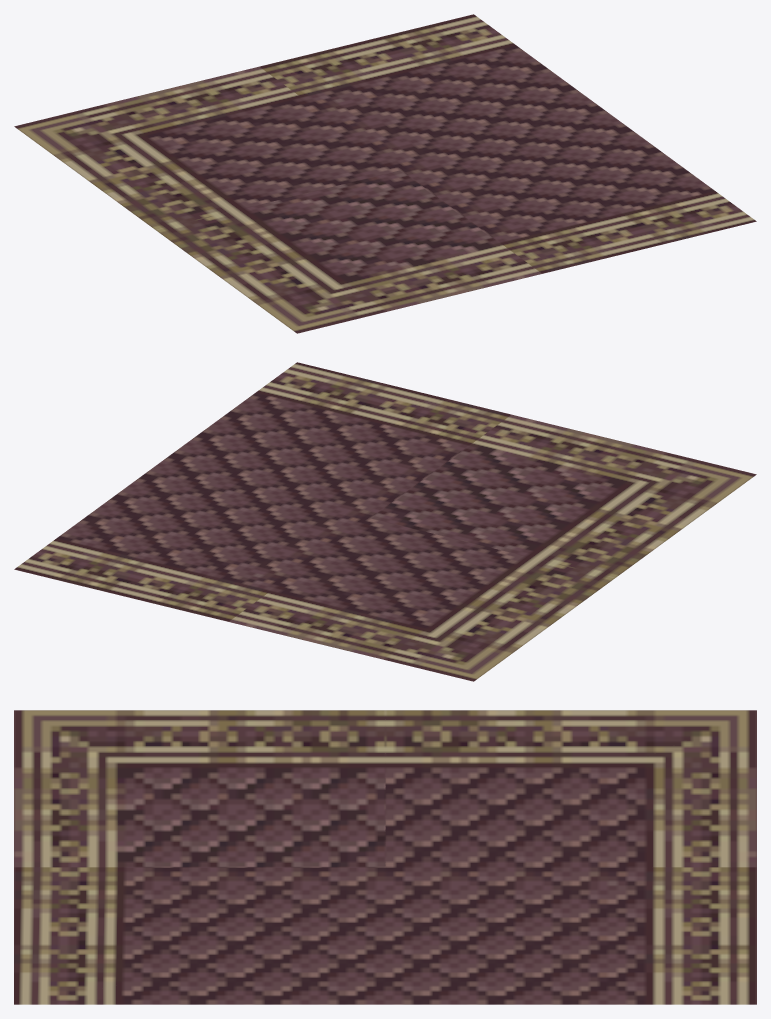
File: EnvMdrMD_Castle_A_GrdCpt_Stairs_FR.FBX
3 views of the same model, one above another, from view 1: azimuth 30°, elevation 25°; view 2: azimuth 150°, elevation 25°; view 3: azimuth 270°, elevation 25° (orthographic). The views are drawn at different scales.
Parts seen in each view (by area): view 1: EnvMdrMD_Castle_A_GrdCpt_Stairs_FR; view 2: EnvMdrMD_Castle_A_GrdCpt_Stairs_FR; view 3: EnvMdrMD_Castle_A_GrdCpt_Stairs_FR.
Boxes of the visible parts, box(x1,y1,x2,y2) form: EnvMdrMD_Castle_A_GrdCpt_Stairs_FR: box(14, 14, 756, 333); EnvMdrMD_Castle_A_GrdCpt_Stairs_FR: box(14, 362, 756, 681); EnvMdrMD_Castle_A_GrdCpt_Stairs_FR: box(14, 710, 756, 1004).
Size of the model in its own units: 375 by 2.49e-14 by 400.
Materials: 1 (1 with a texture image).
